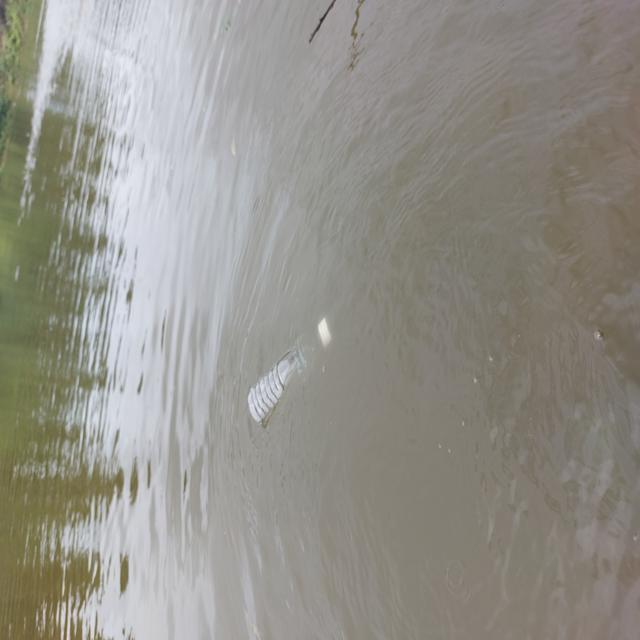waterbottle: (220, 314, 341, 429)
